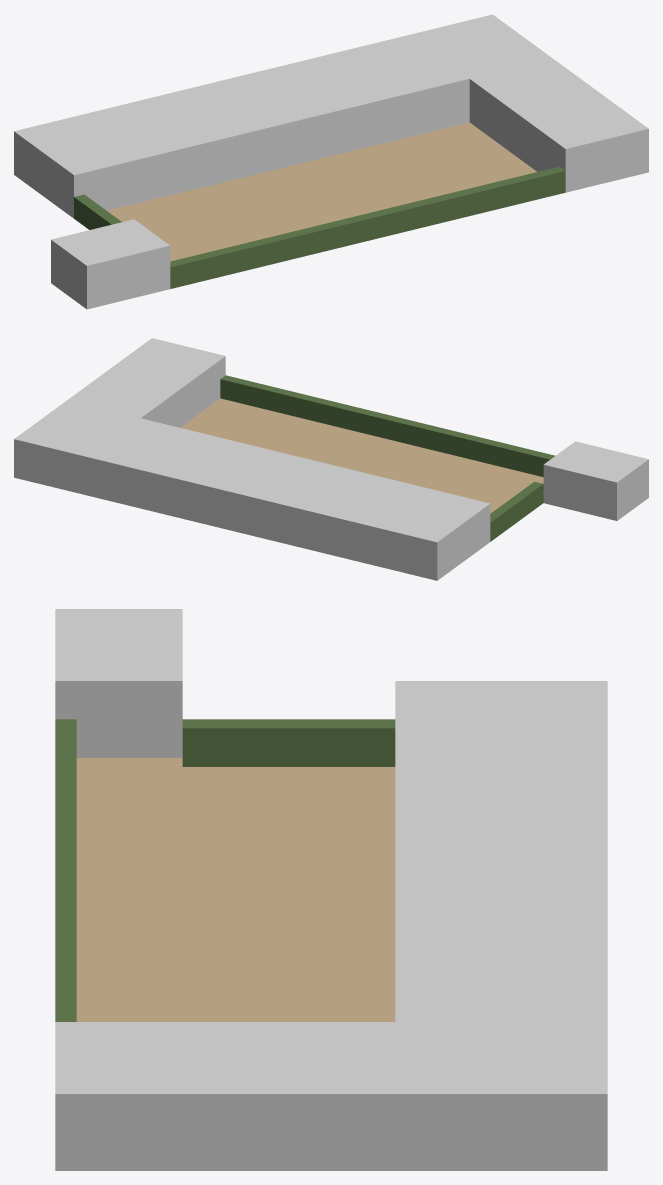
File: kindergarten.glb
3 views of the same model, one above another, from view 1: azimuth 30°, elevation 25°; view 2: azimuth 150°, elevation 25°; view 3: azimuth 270°, elevation 25° (orthographic). The views are drawn at different scales.
Visible parts, largest first — view 1: Plane; view 2: Plane; view 3: Plane.
Part boxes in pixels (x1,y1,x2,y2): Plane: [14, 14, 648, 309]; Plane: [14, 338, 648, 580]; Plane: [55, 609, 607, 1170].
Size of what is drawn, in the model's own units: 54 by 4 by 26.
